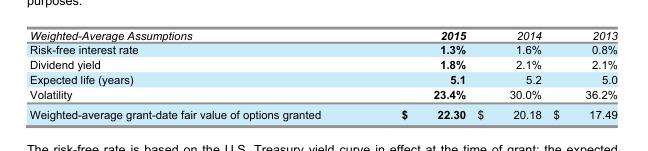table: (29, 28, 616, 120)
table column: (29, 28, 360, 120), (360, 28, 470, 120), (470, 28, 546, 120), (546, 28, 616, 120)
table column header: (29, 28, 616, 42)
table row: (29, 86, 616, 103), (29, 103, 616, 120), (29, 56, 616, 71), (29, 71, 616, 86), (29, 28, 616, 42), (29, 42, 616, 56)
